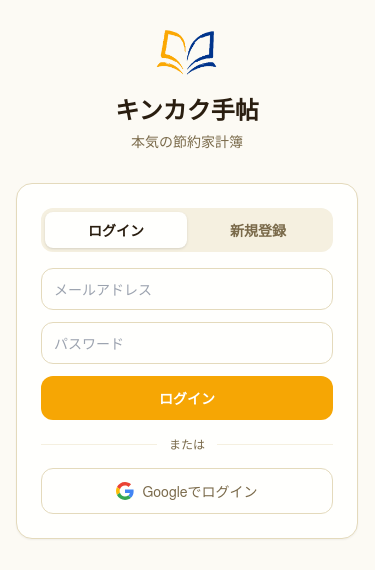
Test: AuthScreen — ログイン送信 › エラーが返った場合にエラーメッセージが表示される
In the field labelled "メールアドレス": (187, 289) [41,268,333,310], type "wrong@example.com"
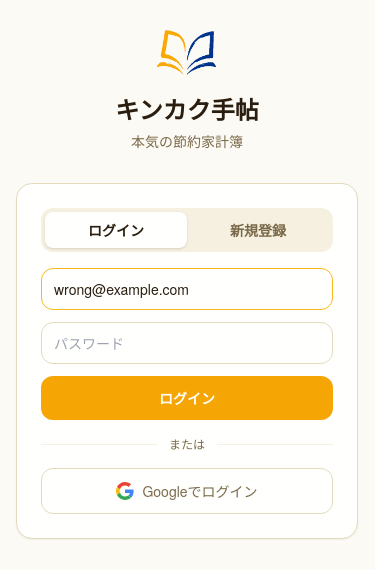
In the password field with placeholder "パスワード": (187, 343) [41,322,333,364], type "wrongpass"
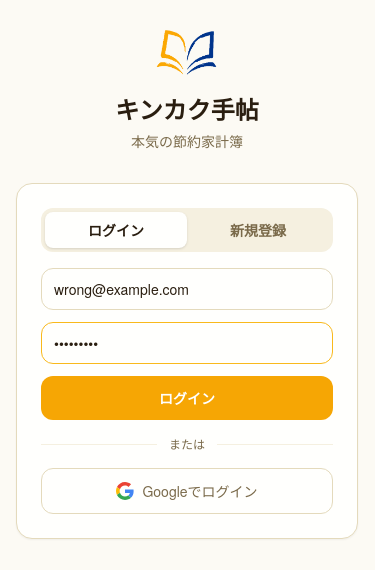
Submit the form named "メールアドレス", box [41,268,333,420]
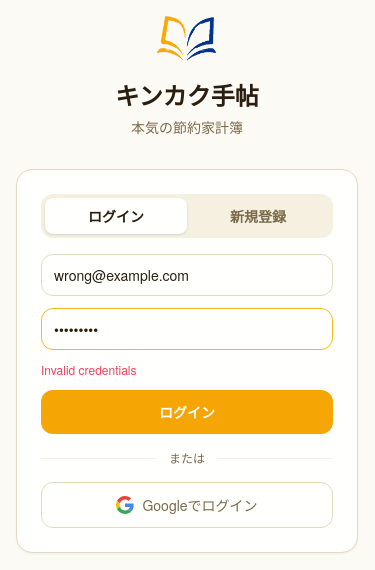
Check: the text "Invalid credentials" is shown, box [41,361,136,378]
